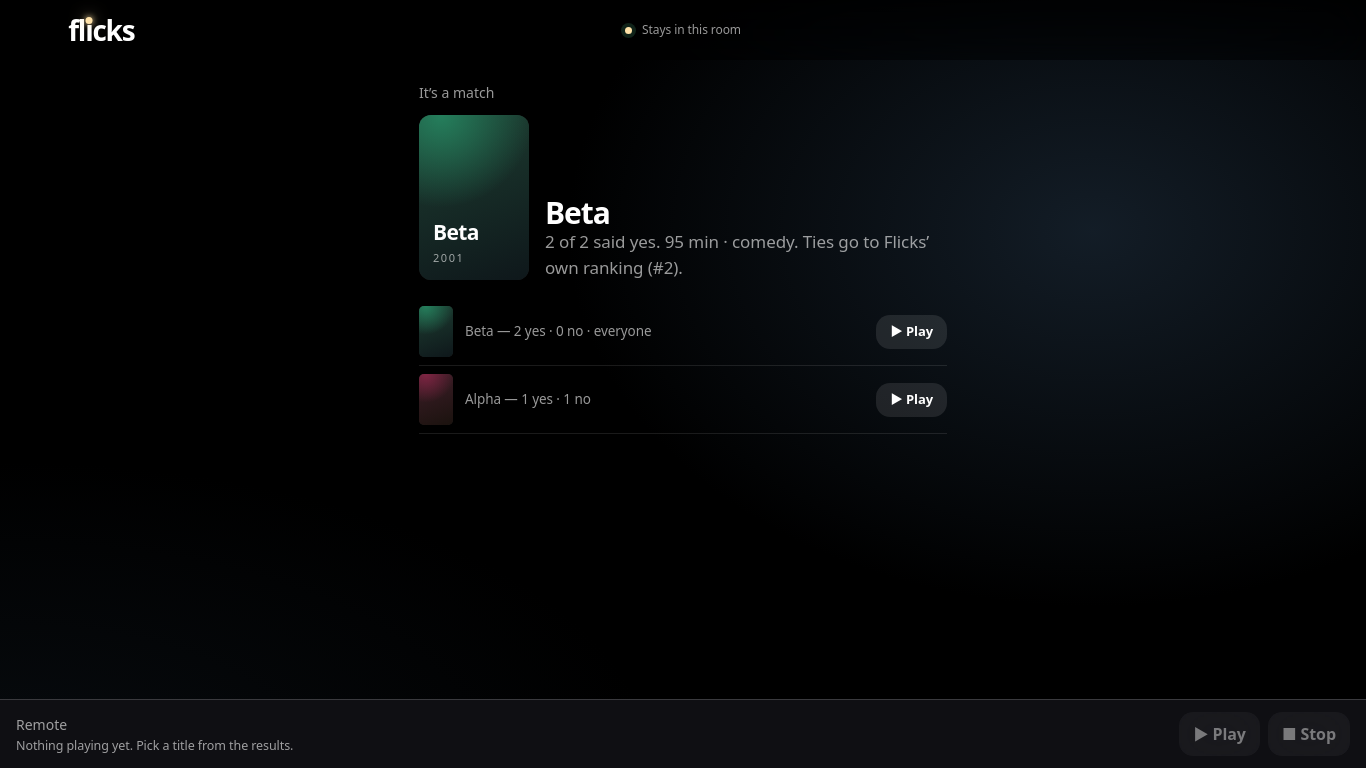
it: results show the match, and the remote plays the chosen title on the TV
Expected: the text "It’s a match" is shown, [419,83,494,102]
Expected: the heading "Beta" is shown, [545,192,610,233]
Step 1. Click the button with aria-label "Play Beta on the TV" → point(912, 332), box [876,314,947,348]
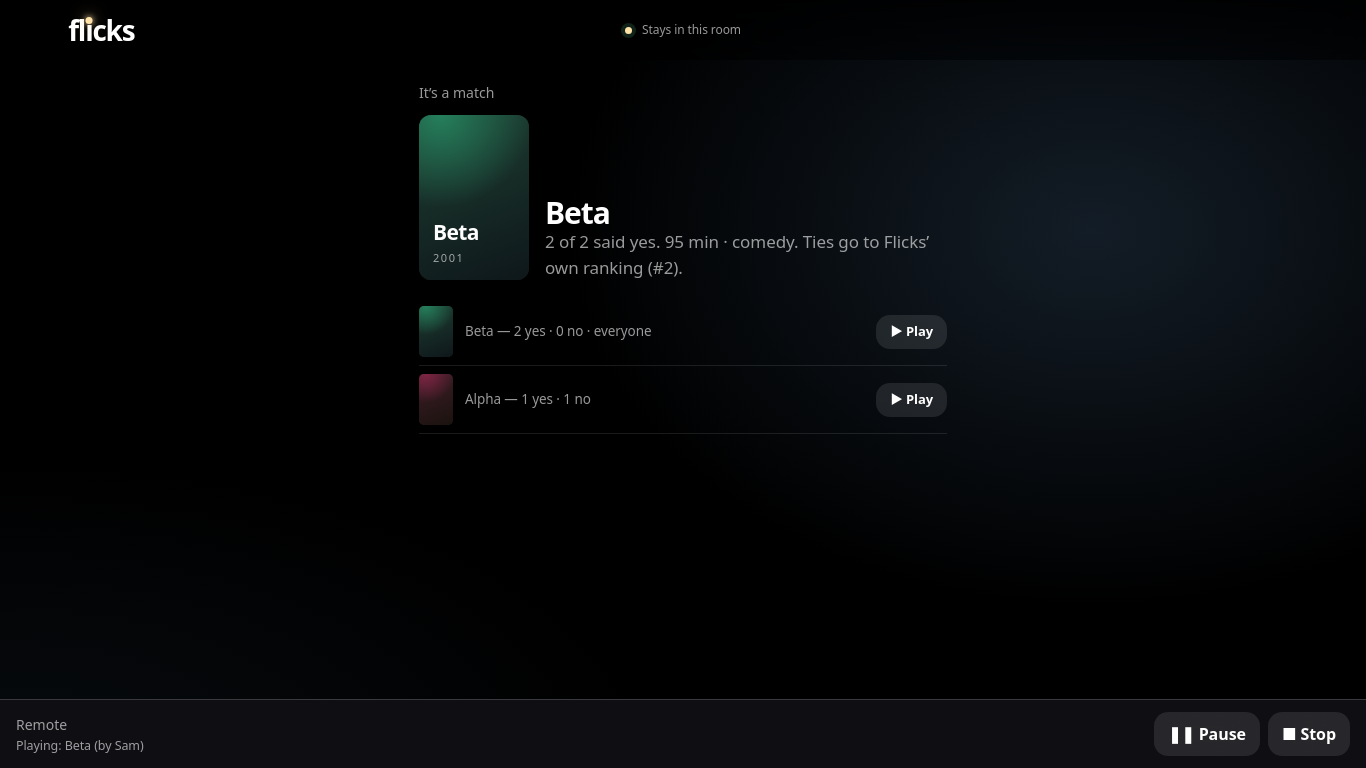
Expected: the text "Playing: Beta (by Sam)" is shown, [16,737,144,756]
Expected: the button "❚❚ Pause" is enabled, [1154,712,1260,756]
